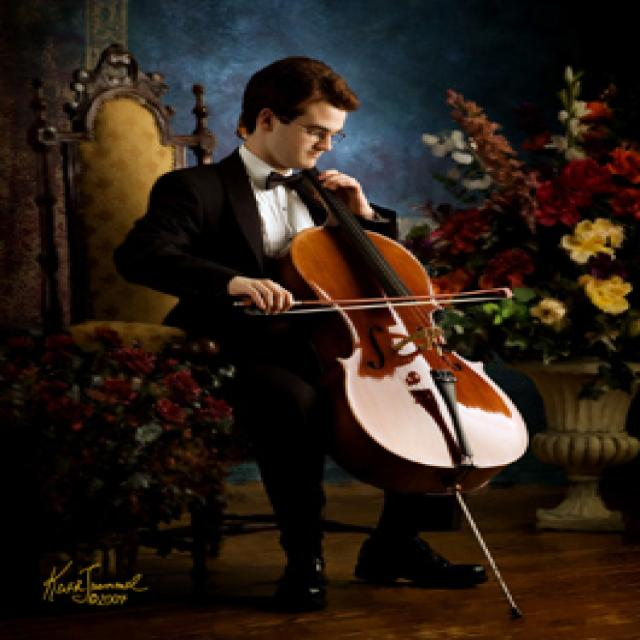cello: (272, 166, 530, 494)
